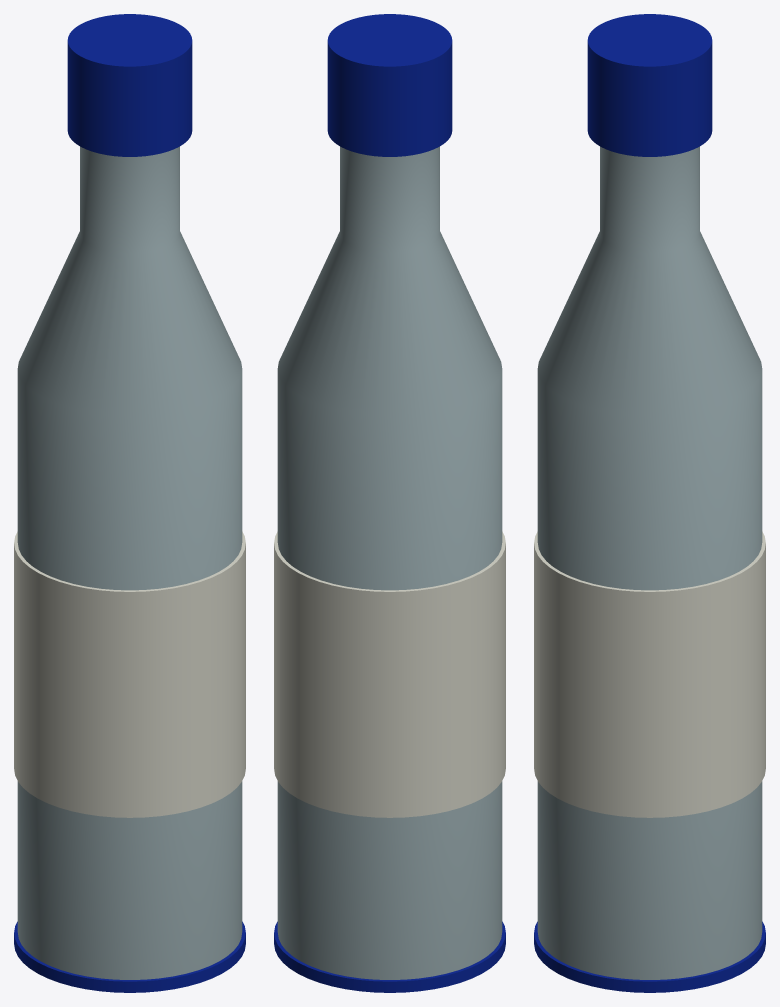
File: morphine.glb
3 renders of one model, left to right at view 1: azimuth 30°, elevation 25°; view 2: azimuth 150°, elevation 25°; view 3: azimuth 270°, elevation 25°, orthographic.
Visible parts, largest first — view 1: body:vessel; view 2: body:vessel; view 3: body:vessel.
Part boxes in pixels (box(x1,y1,x2,y2)): body:vessel: box(14, 14, 245, 992); body:vessel: box(274, 14, 505, 992); body:vessel: box(534, 14, 765, 992).
Bounding box in the file's own units: 0.0186 × 0.08 × 0.0186.
